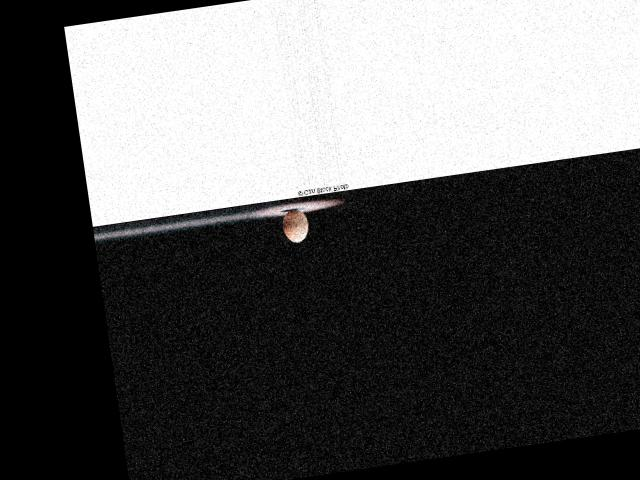egg: (280, 207, 310, 243)
